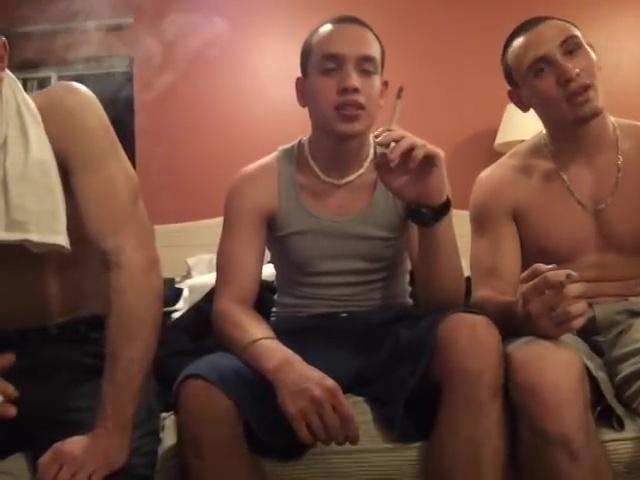cigarette: (389, 82, 409, 131), (561, 271, 577, 291)
